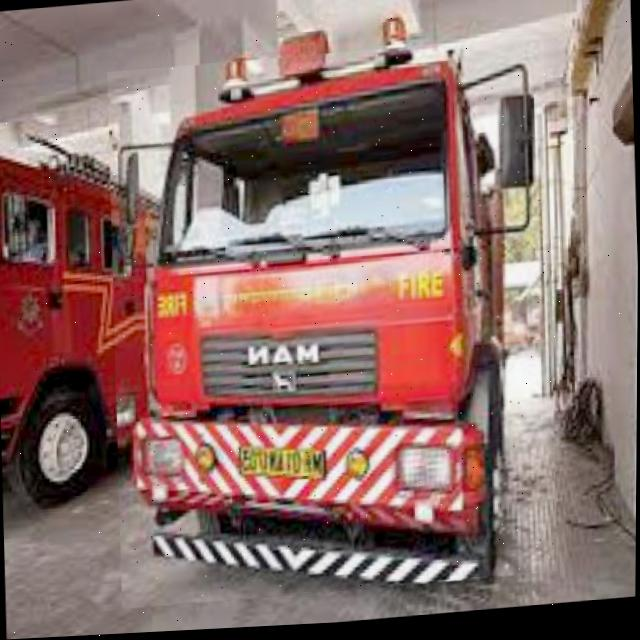Fire Truck: (104, 40, 561, 611)
